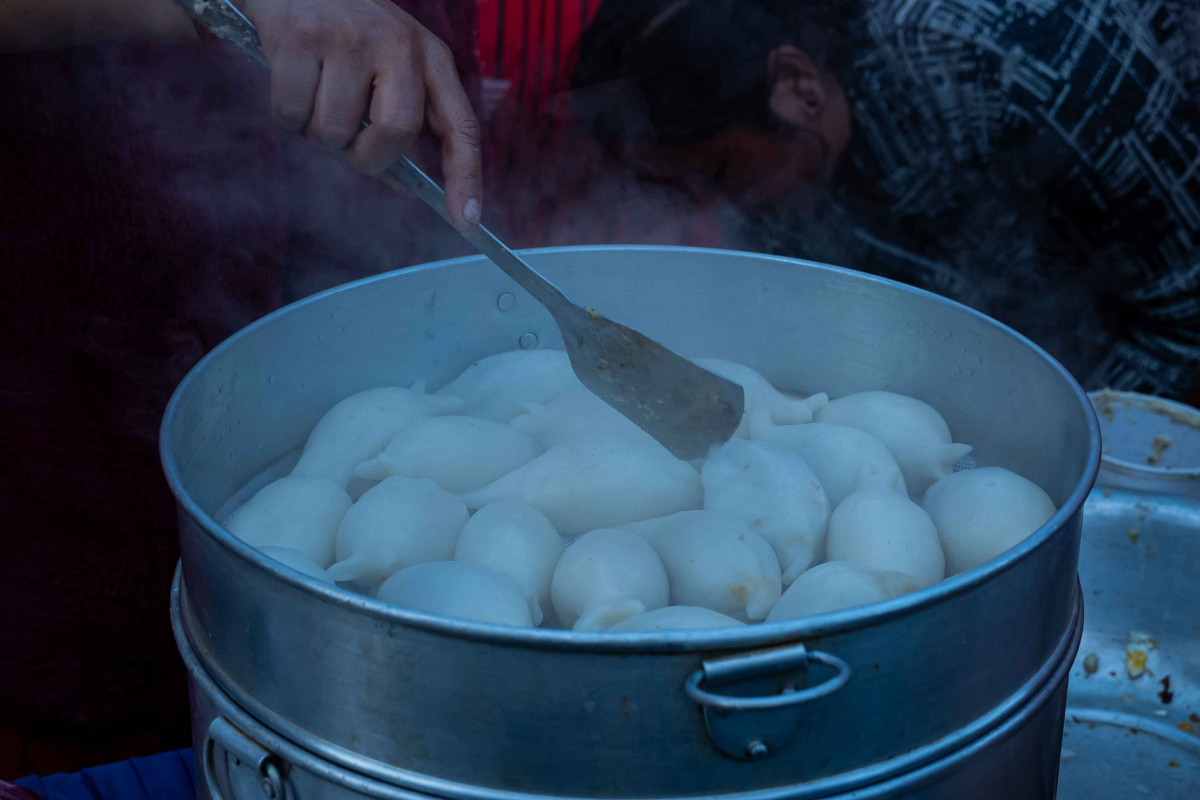yomari: (668, 504, 787, 624), (691, 358, 839, 434), (859, 389, 988, 476), (557, 530, 653, 628), (471, 492, 547, 615), (322, 372, 461, 438), (320, 494, 419, 584), (803, 546, 923, 612)
